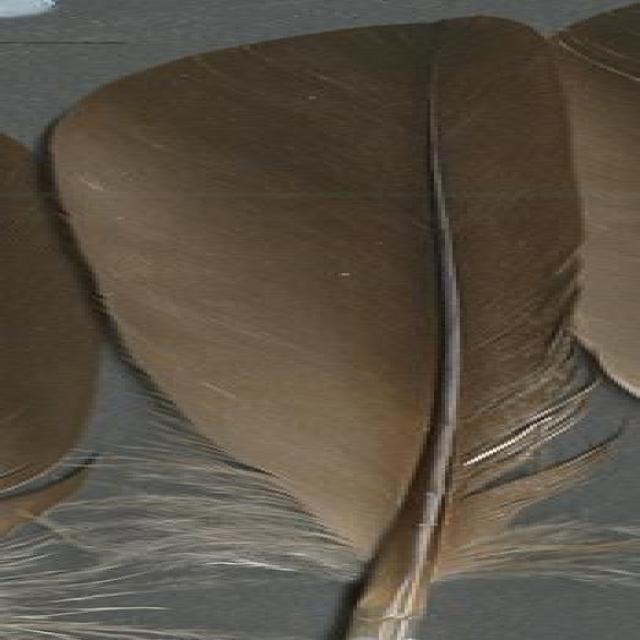feather: (52, 14, 609, 640)
